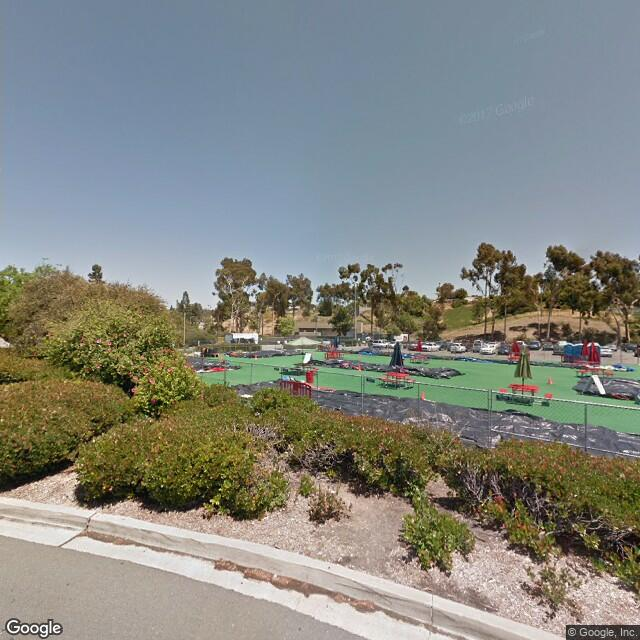litter: (349, 599, 376, 609), (267, 575, 286, 582)
